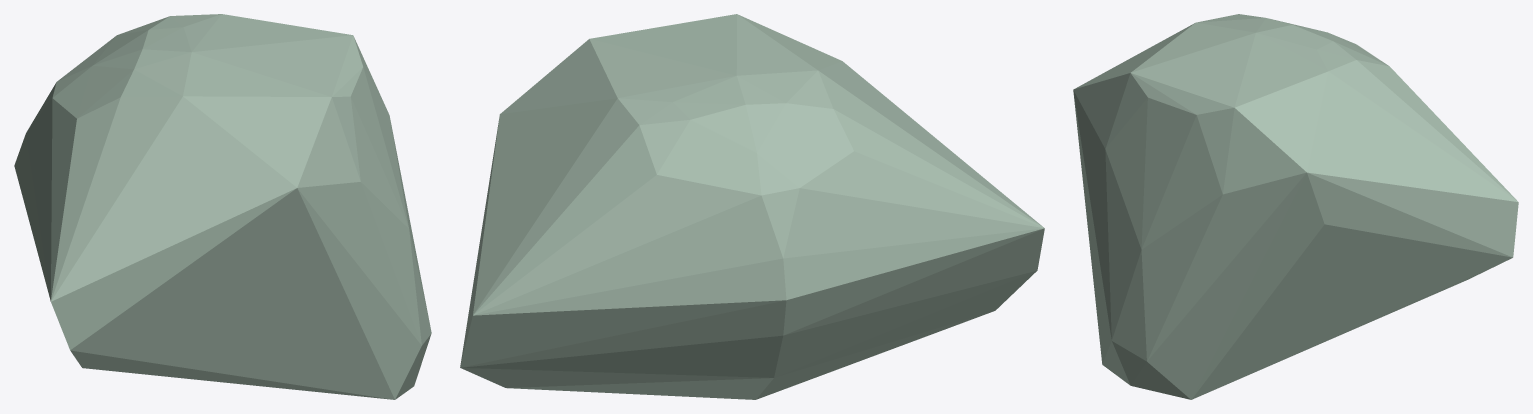
File: suzanne-collider.glb
3 renders of one model, left to right at view 1: azimuth 30°, elevation 25°; view 2: azimuth 150°, elevation 25°; view 3: azimuth 270°, elevation 25°, orthographic. The views are drawn at different scales.
Visible parts, largest first — view 1: world.001; view 2: world.001; view 3: world.001.
Part boxes in pixels (bbox=[...]): world.001: bbox=[14, 14, 431, 399]; world.001: bbox=[460, 14, 1044, 399]; world.001: bbox=[1073, 14, 1518, 399].
Bounding box in the file's own units: 2.13 × 1.62 × 2.26.
